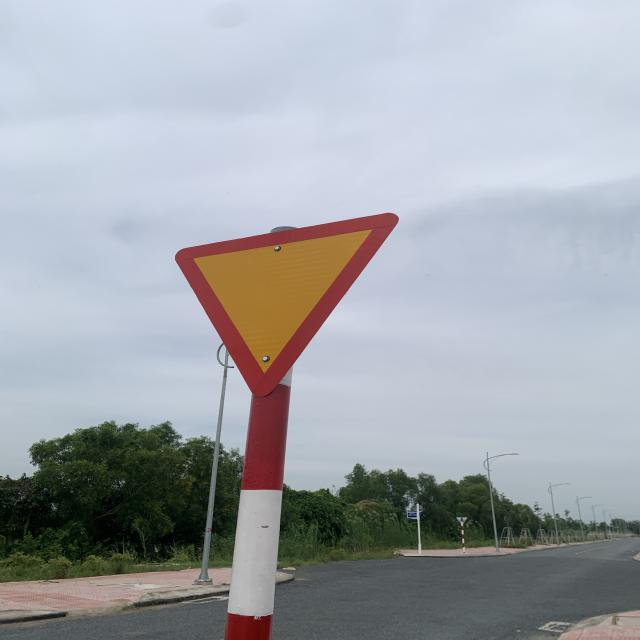Gioi_Han_Toc_Do_25: (171, 209, 401, 400)
